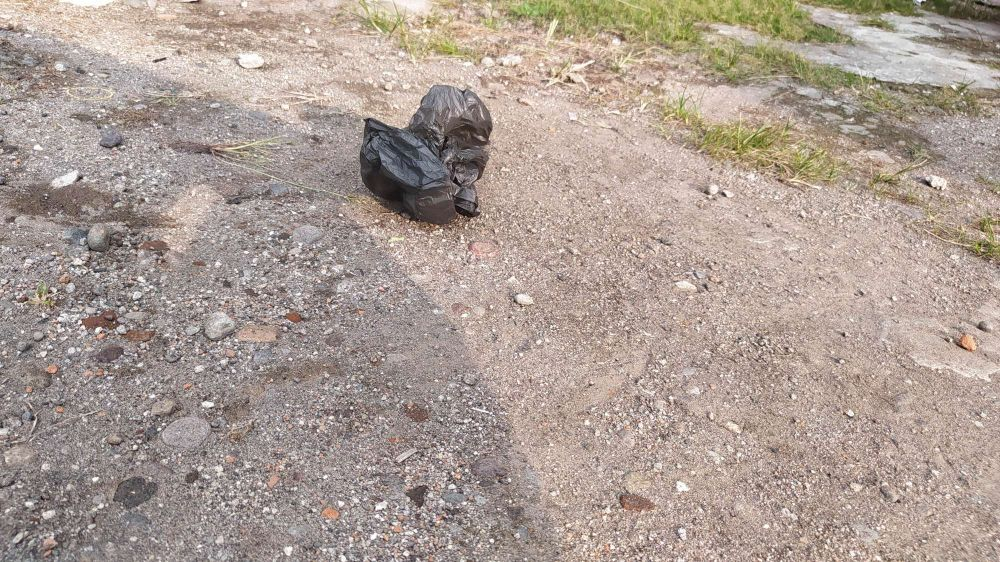plastik: (325, 74, 513, 227)
